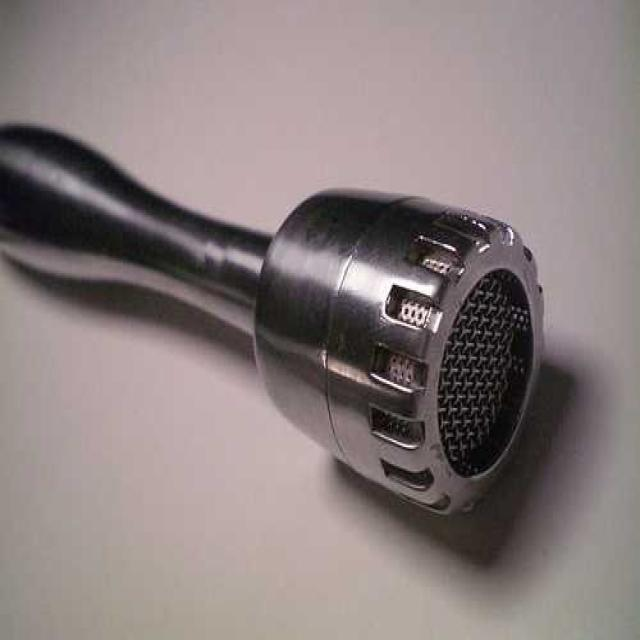microphone: (0, 127, 530, 511)
